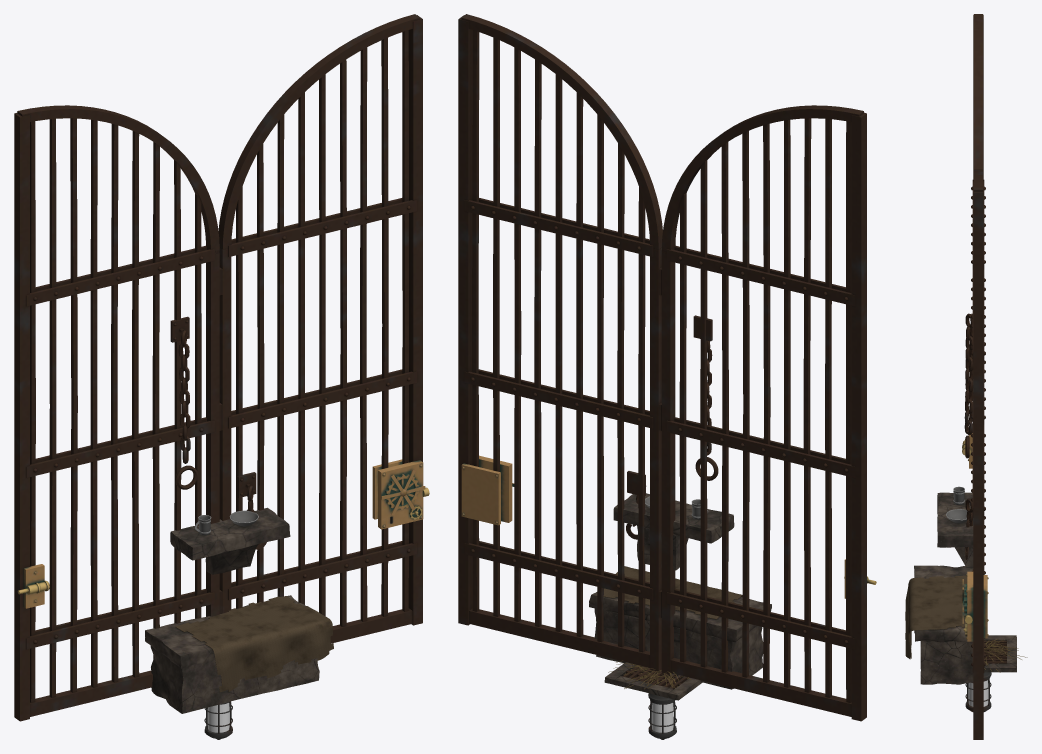
The model's file is cell_kit.glb.
The picture shows the model from 3 angles, left to right: view 1: azimuth 30°, elevation 25°; view 2: azimuth 150°, elevation 25°; view 3: azimuth 270°, elevation 25°; orthographic projection. The views are drawn at different scales.
Parts seen in each view (by area): view 1: gate_r, gate_l, bench, shelf, wall_chains; view 2: gate_l, gate_r, bench, shelf, drain, wall_chains, lantern; view 3: gate_l, bench, gate_r, shelf, wall_chains, drain, straw_tuft, lantern, lantern_glass.
Part boxes in pixels (<box>): gate_r: <box>14,105,220,721</box>; gate_l: <box>218,14,429,643</box>; bench: <box>145,595,333,713</box>; shelf: <box>170,507,290,574</box>; wall_chains: <box>170,316,266,549</box>; gate_l: <box>458,14,662,671</box>; gate_r: <box>660,105,876,721</box>; bench: <box>589,566,771,689</box>; shelf: <box>613,493,734,570</box>; drain: <box>604,662,702,700</box>; wall_chains: <box>626,315,718,539</box>; lantern: <box>648,693,676,739</box>; gate_l: <box>961,169,988,739</box>; bench: <box>905,565,973,684</box>; gate_r: <box>962,14,985,574</box>; shelf: <box>937,486,973,569</box>; wall_chains: <box>964,313,973,559</box>; drain: <box>984,635,1016,672</box>; straw_tuft: <box>984,638,1027,672</box>; lantern: <box>965,672,991,711</box>; lantern_glass: <box>968,680,988,706</box>.
Size of the model in its own units: 3.32 by 5.24 by 0.9473.
Materials: 2 (1 with a texture image).
